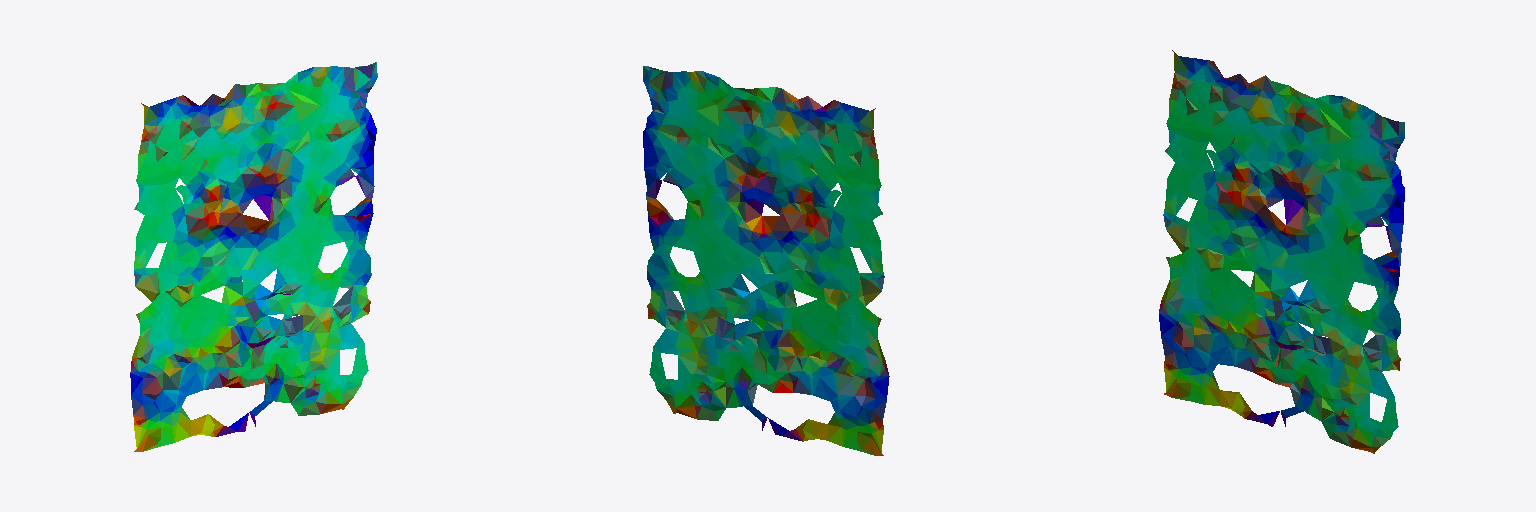
Rendered from 1.2-with-color.obj.
3 views of the same model, side by side, from view 1: azimuth 30°, elevation 25°; view 2: azimuth 150°, elevation 25°; view 3: azimuth 330°, elevation 25° (orthographic).
Bounding box in the file's own units: 3363 × 4636 × 177.